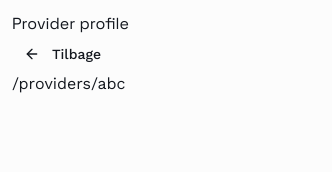
Test case: BackButton — always goes one step back › navigates from a site page back to the previous site page
Expected: the text with test id "pathname" reads "/providers/abc", [12,74,125,93]
Click the button with aria-label "forrige side" at (63, 54), box [12,36,113,72]
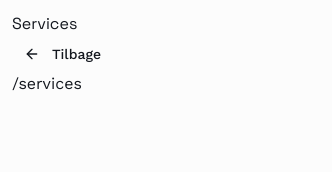
Expected: the text with test id "pathname" reads "/services", [12,74,82,93]
